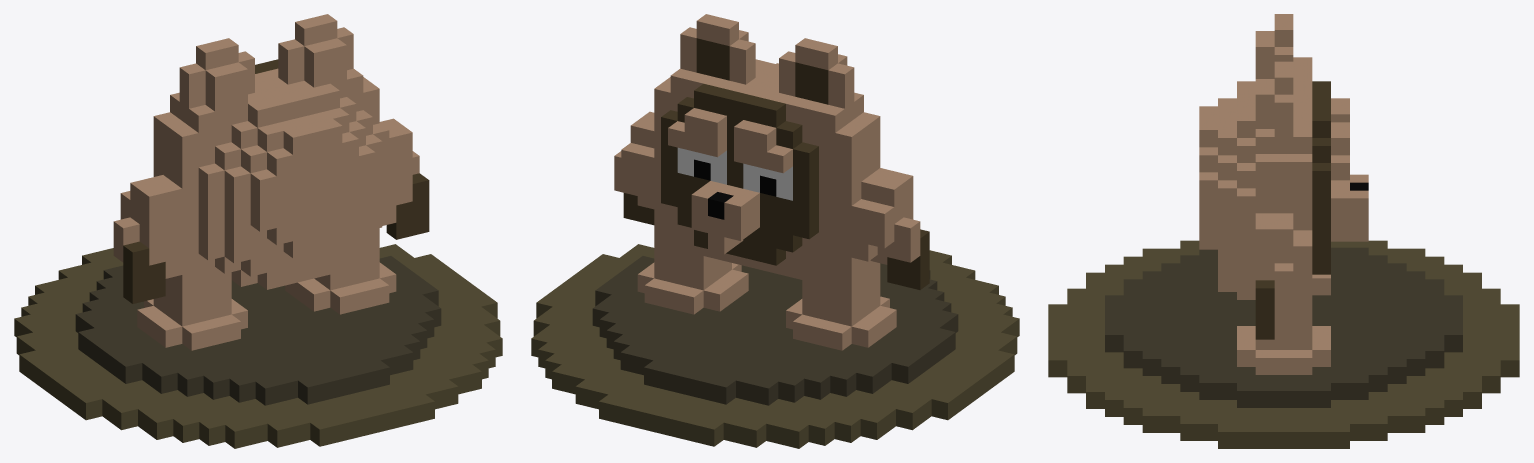
Rendered from figure_0.glb.
3 views of the same model, side by side, from view 1: azimuth 30°, elevation 25°; view 2: azimuth 150°, elevation 25°; view 3: azimuth 270°, elevation 25° (orthographic).
Visible parts, largest first — view 1: codebear_0; view 2: codebear_0; view 3: codebear_0.
Boxes of the visible parts, x1=… form: codebear_0: x1=14, y1=14, x2=502, y2=448; codebear_0: x1=531, y1=14, x2=1019, y2=448; codebear_0: x1=1048, y1=14, x2=1519, y2=448.
Size of the model in its own units: 2.5 by 1.8 by 2.5.
1 material, 1 textured.
